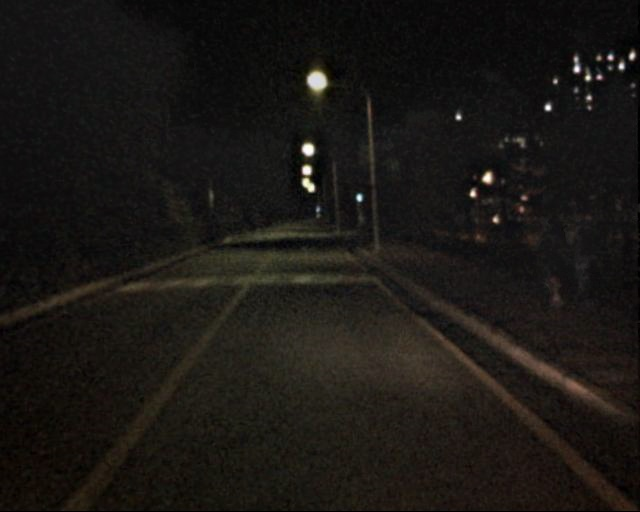person: (532, 211, 578, 317), (562, 206, 608, 312)
